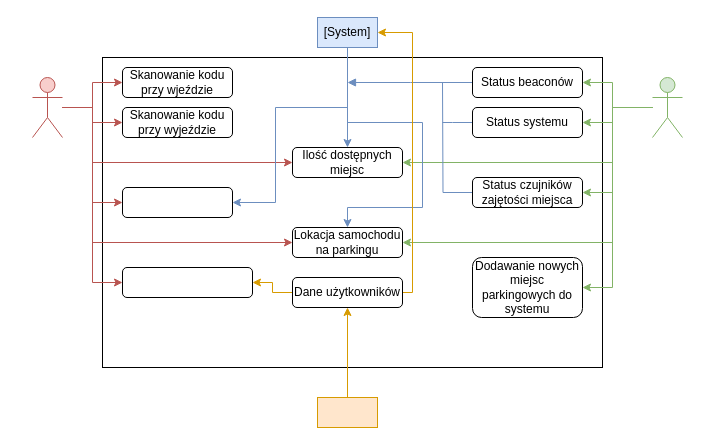
Image size: 720x445. Some labels were removed from this diagram. The shapes that lost their labels are listed below. From the top down, each one's centre as x and y in pixels, then its label:
At (47,107): "Użytkownik".
At (667,107): "Administrator".
At (177,202): "Wskazówki do wolnych miejsc".
At (187,282): "Logowanie/Rejestracja do aplikacji".
At (347,412): "[Aplikacja]".
